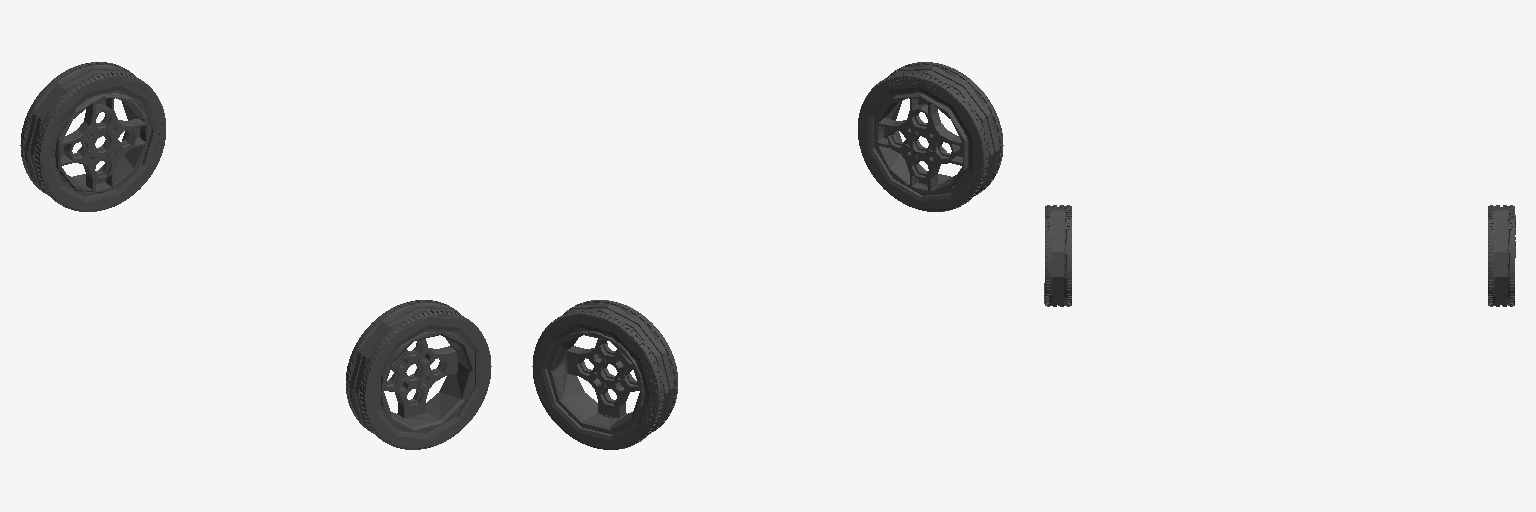
robot.urdf — turtlebot3_waffle:
<?xml version="1.0" ?>
<robot name="turtlebot3_waffle">

  <!-- Init colour -->
  <material name="black">
      <color rgba="0.0 0.0 0.0 1.0"/>
  </material>

  <material name="dark">
    <color rgba="0.3 0.3 0.3 1.0"/>
  </material>

  <material name="light_black">
    <color rgba="0.4 0.4 0.4 1.0"/>
  </material>

  <material name="blue">
    <color rgba="0.0 0.0 0.8 1.0"/>
  </material>

  <material name="green">
    <color rgba="0.0 0.8 0.0 1.0"/>
  </material>

  <material name="grey">
    <color rgba="0.5 0.5 0.5 1.0"/>
  </material>

  <material name="orange">
    <color rgba="1.0 0.4235 0.0392 1.0"/>
  </material>

  <material name="brown">
    <color rgba="0.8706 0.8118 0.7647 1.0"/>
  </material>

  <material name="red">
    <color rgba="0.8 0.0 0.0 1.0"/>
  </material>

  <material name="white">
    <color rgba="1.0 1.0 1.0 1.0"/>
  </material>

  <link name="base_link">
    <visual>
      <origin xyz="-0.064 0 0.0" rpy="0 0 0"/>
      <geometry>
        <mesh filename="package://tbot3_webots/description/meshes/visual/waffle_base.dae" scale="0.001 0.001 0.001"/>
      </geometry>
      <!-- <material name="light_black"/> -->
    </visual>

    <collision>
      <origin xyz="-0.064 0 0.047" rpy="0 0 0"/>
      <geometry>
        <box size="0.266 0.266 0.094"/>
      </geometry>
    </collision>

    <inertial>
      <origin xyz="0 0 0" rpy="0 0 0"/>
      <mass value="1.3729096e+00"/>
      <inertia ixx="8.7002718e-03" ixy="-4.7576583e-05" ixz="1.1160499e-04"
               iyy="8.6195418e-03" iyz="-3.5422299e-06"
               izz="1.4612727e-02" />
    </inertial>
  </link>

  <joint name="wheel_left_joint" type="continuous">
    <parent link="base_link"/>
    <child link="wheel_left_link"/>
    <origin xyz="0.0 0.144 0.023" rpy="-1.57 0 0"/>
    <axis xyz="0 0 1"/>
  </joint>

  <link name="wheel_left_link">
    <visual>
      <origin xyz="0 0 0" rpy="1.57 0 0"/>
      <geometry>
        <mesh filename="package://tbot3_webots/description/meshes/visual/left_tire.dae" scale="0.001 0.001 0.001"/>
      </geometry>
      <!-- <material name="dark"/> -->
    </visual>

    <collision>
      <origin xyz="0 0 0" rpy="0 0 0"/>
      <geometry>
        <cylinder length="0.018" radius="0.033"/>
      </geometry>
    </collision>

    <inertial>
      <origin xyz="0 0 0" />
      <mass value="2.8498940e-02" />
      <inertia ixx="1.1175580e-05" ixy="-4.2369783e-11" ixz="-5.9381719e-09"
               iyy="1.1192413e-05" iyz="-1.4400107e-11"
               izz="2.0712558e-05" />
      </inertial>
  </link>

  <joint name="wheel_right_joint" type="continuous">
    <parent link="base_link"/>
    <child link="wheel_right_link"/>
    <origin xyz="0.0 -0.144 0.023" rpy="-1.57 0 0"/>
    <axis xyz="0 0 1"/>
  </joint>

  <link name="wheel_right_link">
    <visual>
      <origin xyz="0 0 0" rpy="1.57 0 0"/>
      <geometry>
        <mesh filename="package://tbot3_webots/description/meshes/visual/right_tire.dae" scale="0.001 0.001 0.001"/>
      </geometry>
      <!-- <material name="dark"/> -->
    </visual>

    <collision>
      <origin xyz="0 0 0" rpy="0 0 0"/>
      <geometry>
        <cylinder length="0.018" radius="0.033"/>
      </geometry>
    </collision>

    <inertial>
      <origin xyz="0 0 0" />
      <mass value="2.8498940e-02" />
      <inertia ixx="1.1175580e-05" ixy="-4.2369783e-11" ixz="-5.9381719e-09"
               iyy="1.1192413e-05" iyz="-1.4400107e-11"
               izz="2.0712558e-05" />
      </inertial>
  </link>

  <link name="base_scan"/>

  <joint name="base_scan_joint" type="fixed">
    <parent link="base_link"/>
    <child link="base_scan"/>
    <origin xyz="0 0 0.2" rpy="0 0 0"/>
  </joint>

</robot>

--- Facts derived from the render (not from the file) ---
3 views of the same robot in one strip: view 1: azimuth 30°, elevation 25°; view 2: azimuth 150°, elevation 25°; view 3: azimuth 270°, elevation 25° (orthographic).
Robot: turtlebot3_waffle — 4 links, 3 joints (2 continuous, 1 fixed); root link base_link; default pose: every joint at zero.
Visible links, largest first — view 1: wheel_left_link, wheel_right_link; view 2: wheel_left_link, wheel_right_link; view 3: wheel_left_link, wheel_right_link.
Link boxes in pixels (x1,y1,x2,y2): wheel_left_link: (20, 62, 165, 211); wheel_right_link: (346, 300, 491, 449); wheel_left_link: (532, 300, 677, 449); wheel_right_link: (858, 62, 1003, 211); wheel_left_link: (1488, 205, 1515, 306); wheel_right_link: (1044, 205, 1071, 306).
Bounding box of the posed robot: 0.066 × 0.3062 × 0.066 m (x, y, z).
2 mesh visuals loaded from 3 distinct referenced files (2 Collada DAE); not drawn: 1 (reference not matched to a file when rendering).
